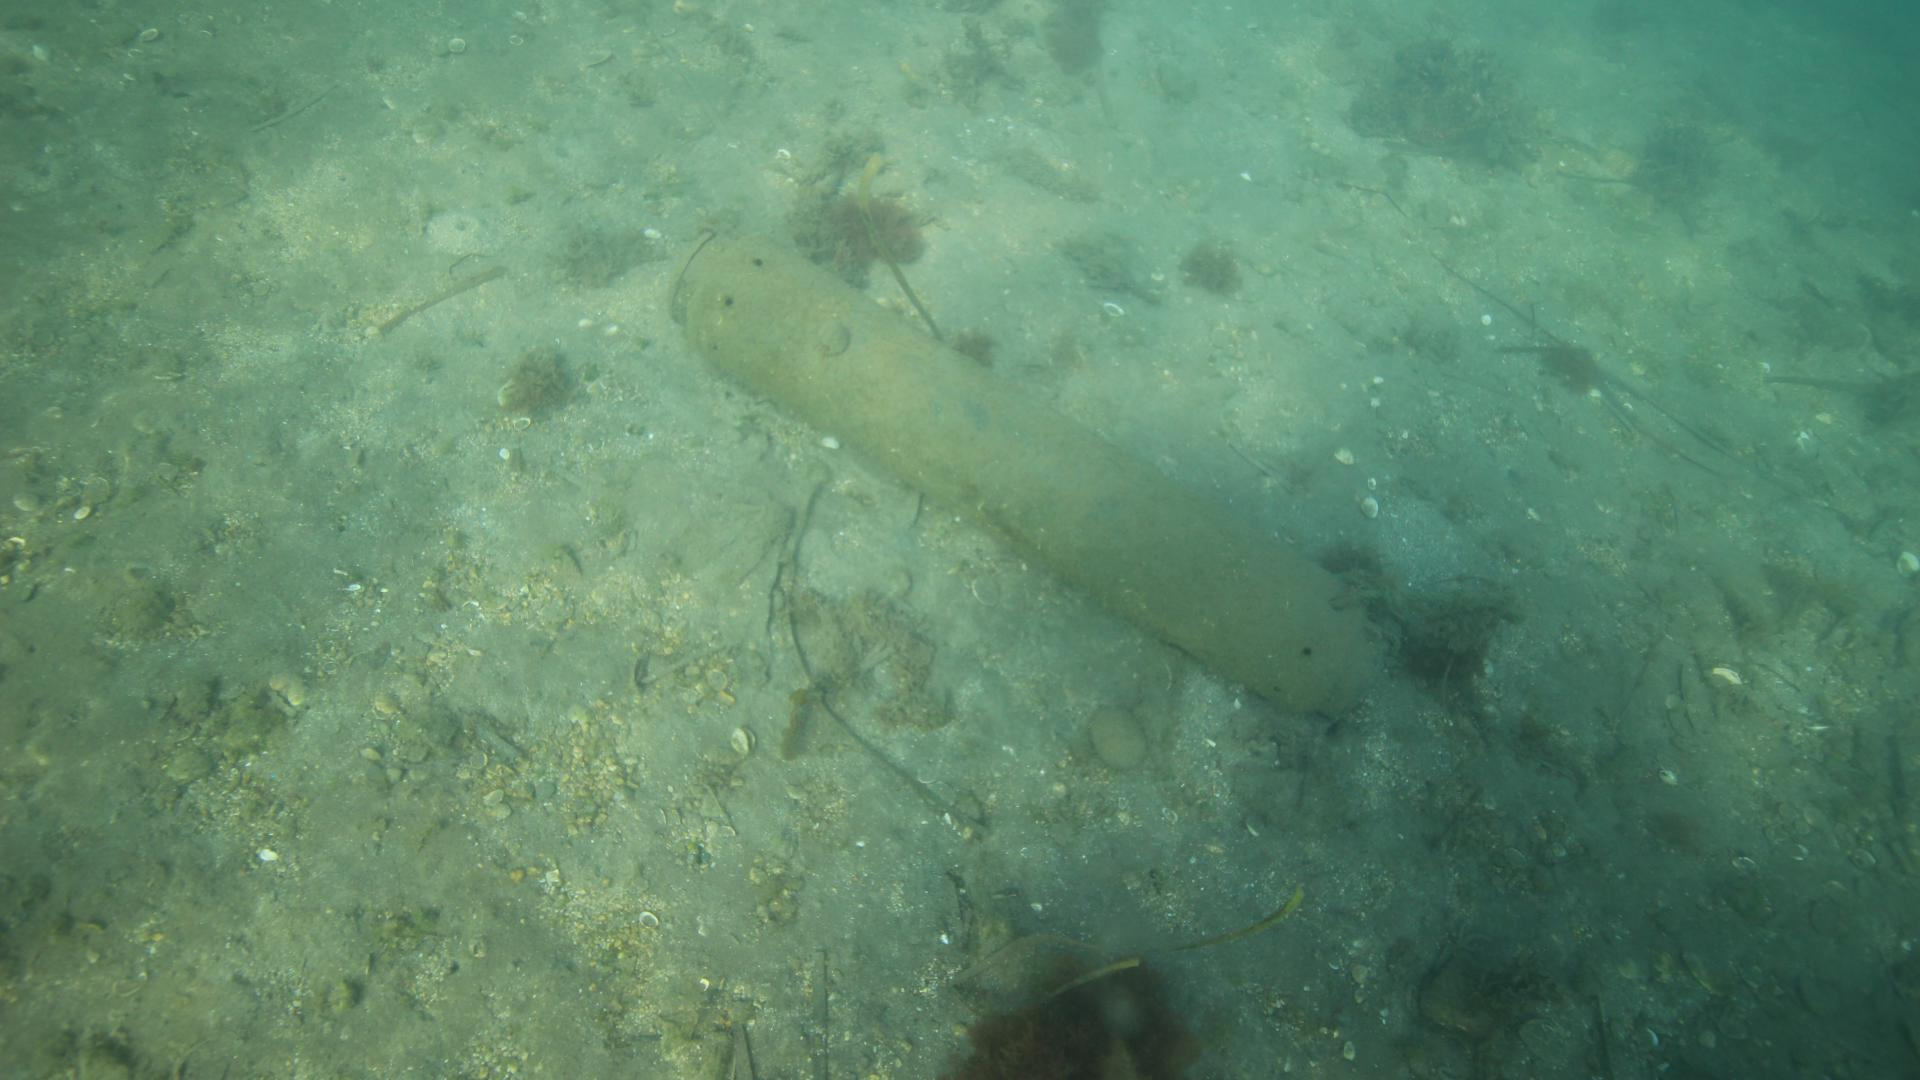eel fish trap: (669, 225, 1390, 719)
